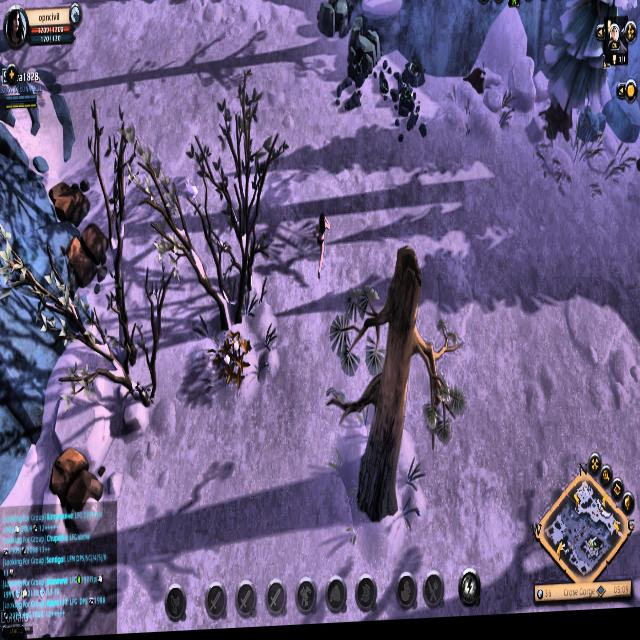cotton: (214, 329, 254, 397)
limestone: (49, 438, 104, 513), (66, 221, 105, 288), (50, 175, 90, 230)
sandstone: (316, 0, 349, 46)
tin_ore: (344, 50, 370, 94)
